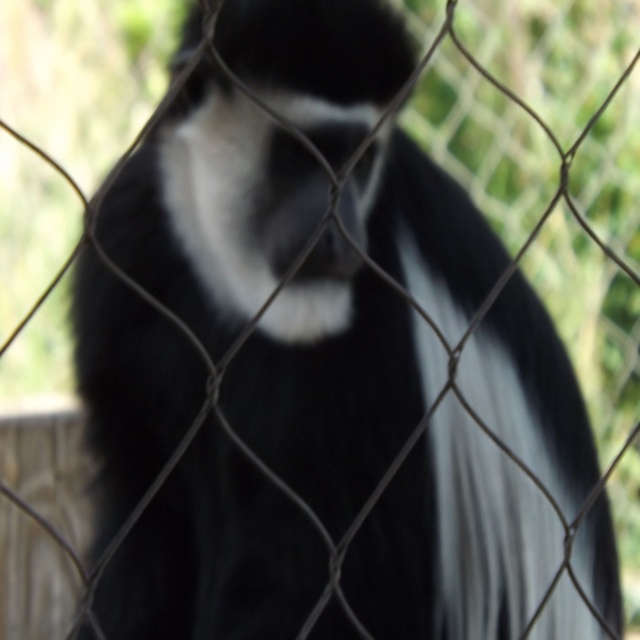Monkey: (69, 0, 623, 639)
